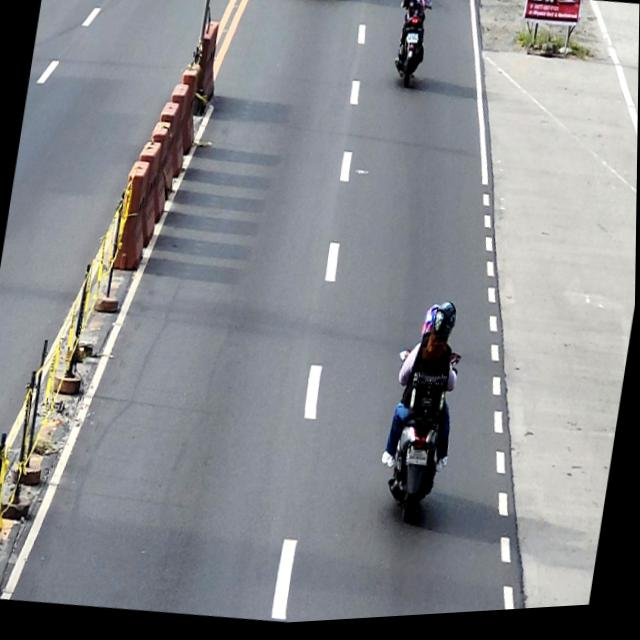License-Plate: (406, 450, 432, 473), (406, 37, 419, 50)
Motorcycle: (375, 349, 464, 535), (386, 0, 436, 96)
